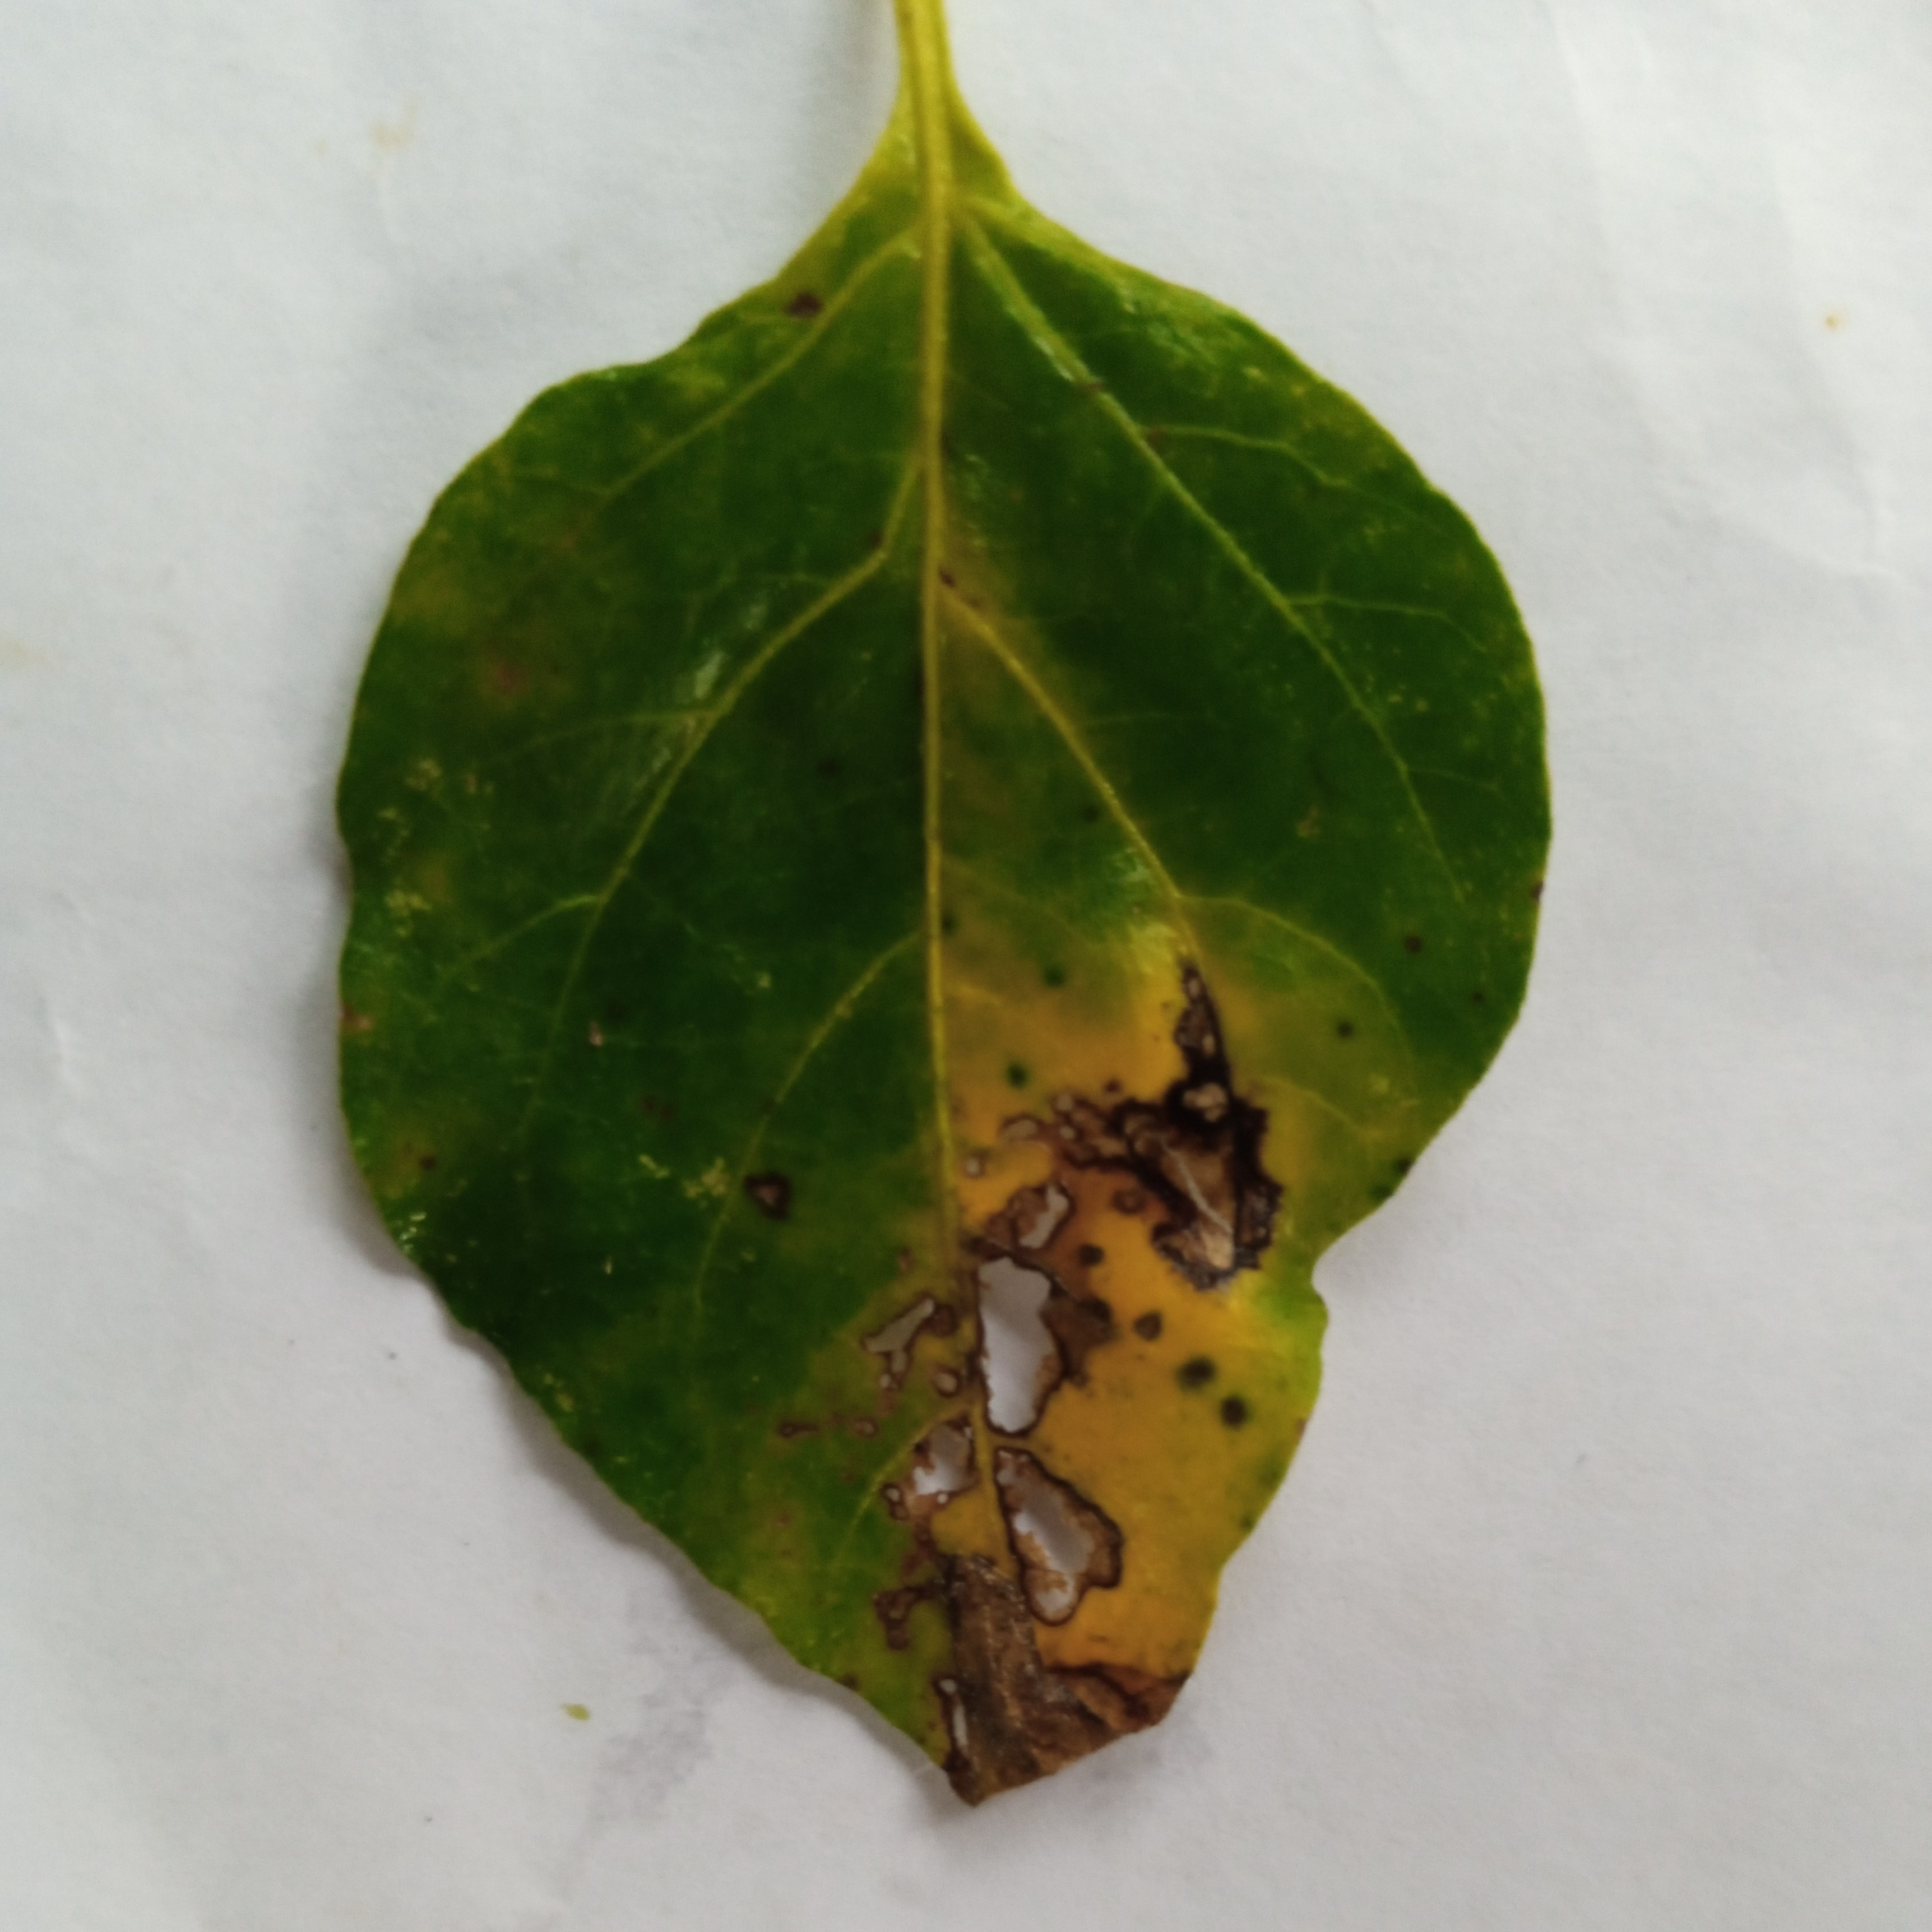Leaf: (163, 101, 1603, 1932)
